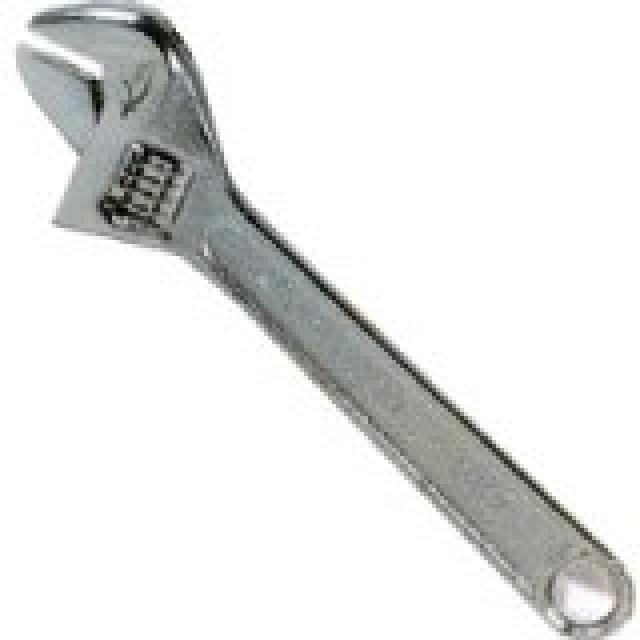wrench: (2, 0, 575, 523)
